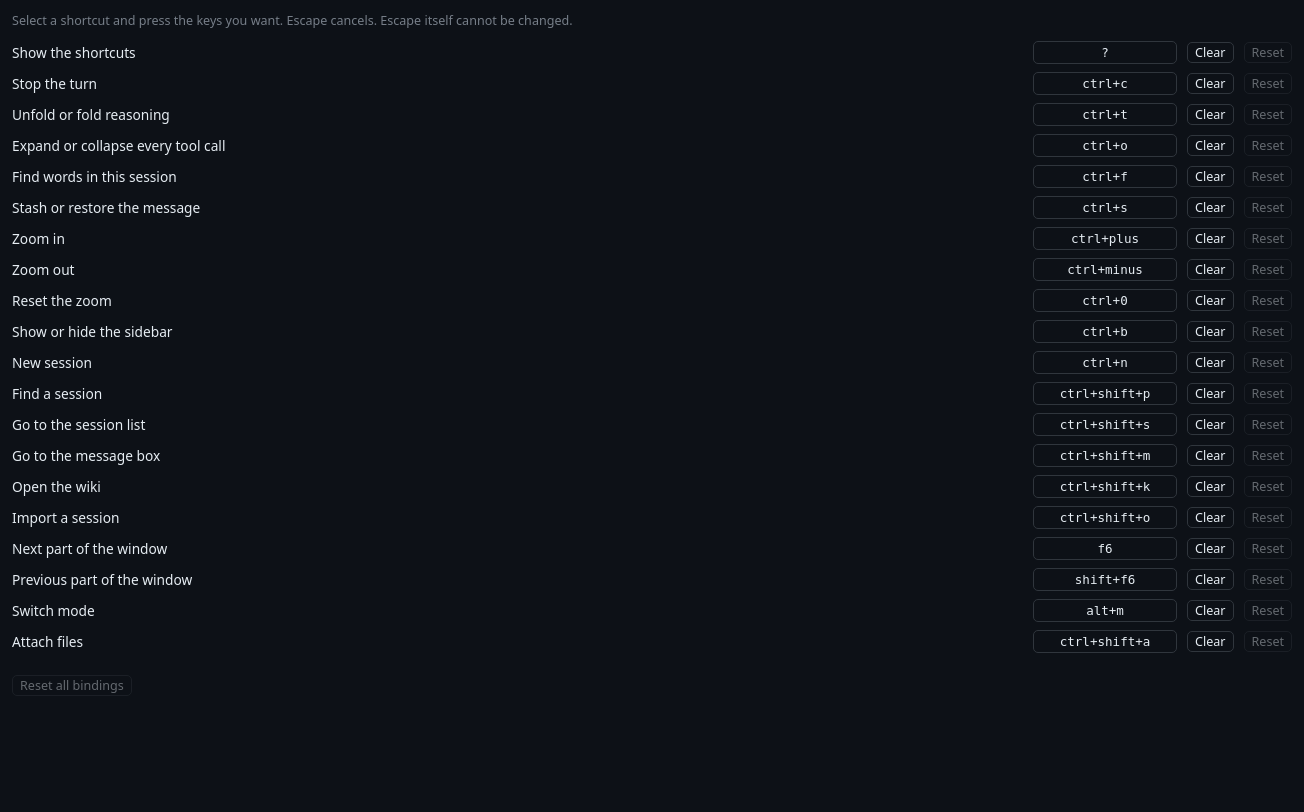
Test case: giving a key new keys › leaves the row alone on Escape
Click the button named "Show or hide the sidebar" at (1105, 332), box x1=1033 y1=320 x2=1177 y2=343
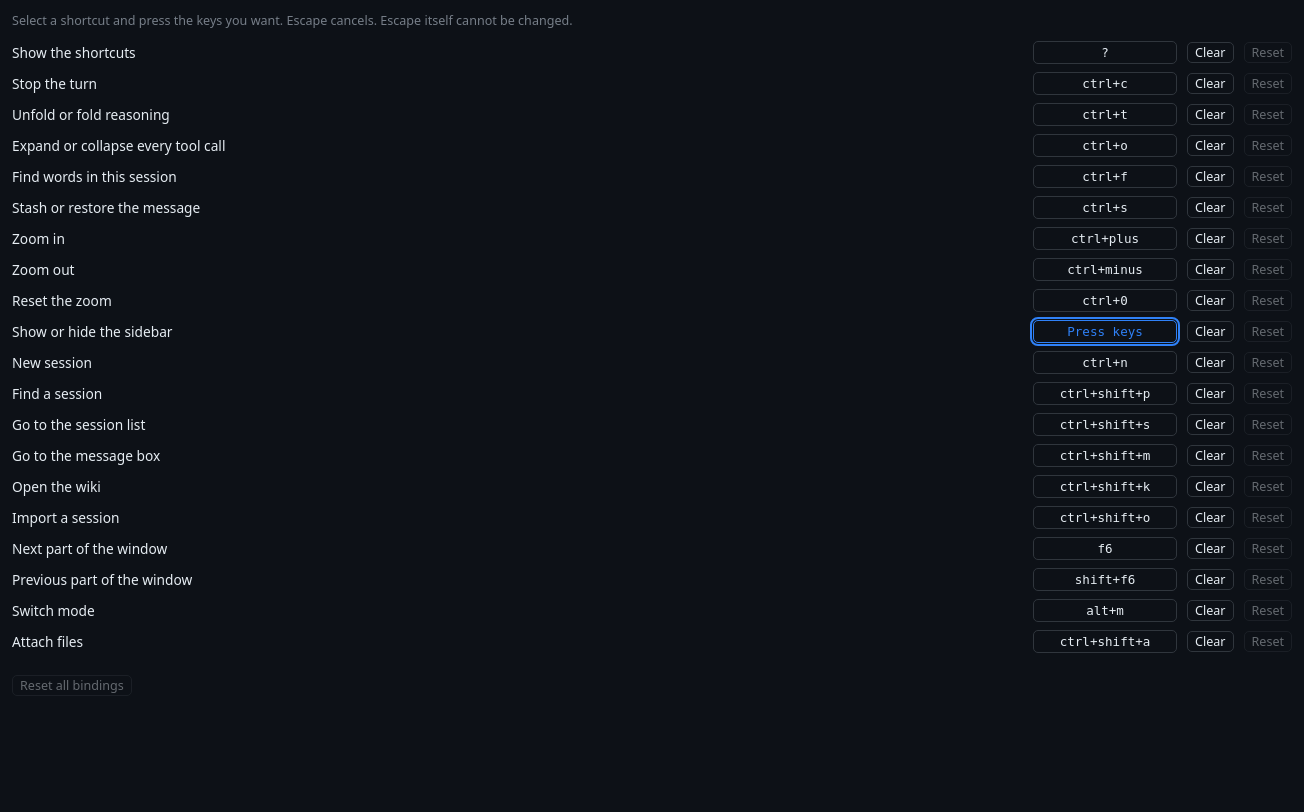
Press Escape
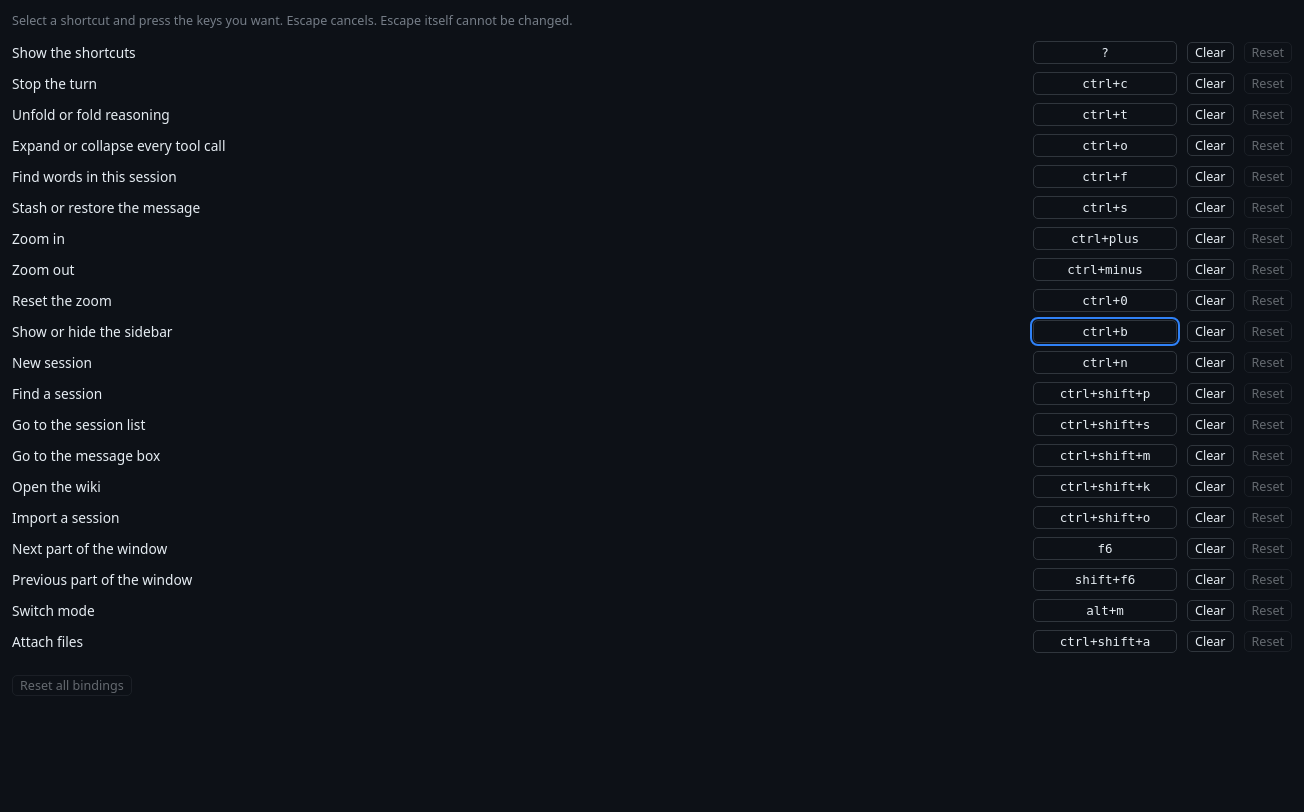
Check: the button named "Show or hide the sidebar" reads "ctrl+b", box x1=1033 y1=320 x2=1177 y2=343
